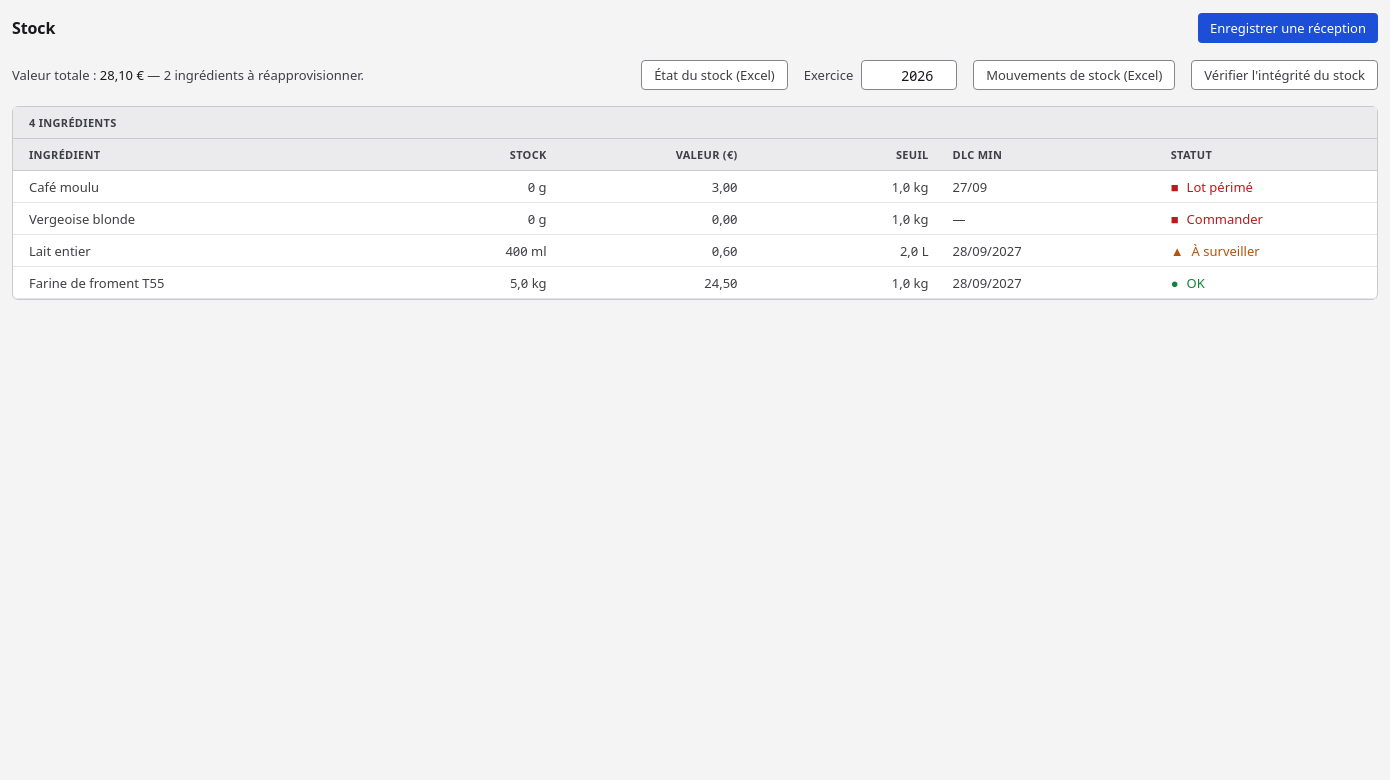
Test: Stock — détail par lot, clavier › Échap ferme le panneau de détail, couche par couche — jamais tout d’un coup
Click the row "Café moulu 0 g 3,00 1,0 kg 27/09 ■ Lot périmé" at [695, 187], box [13,171,1377,203]
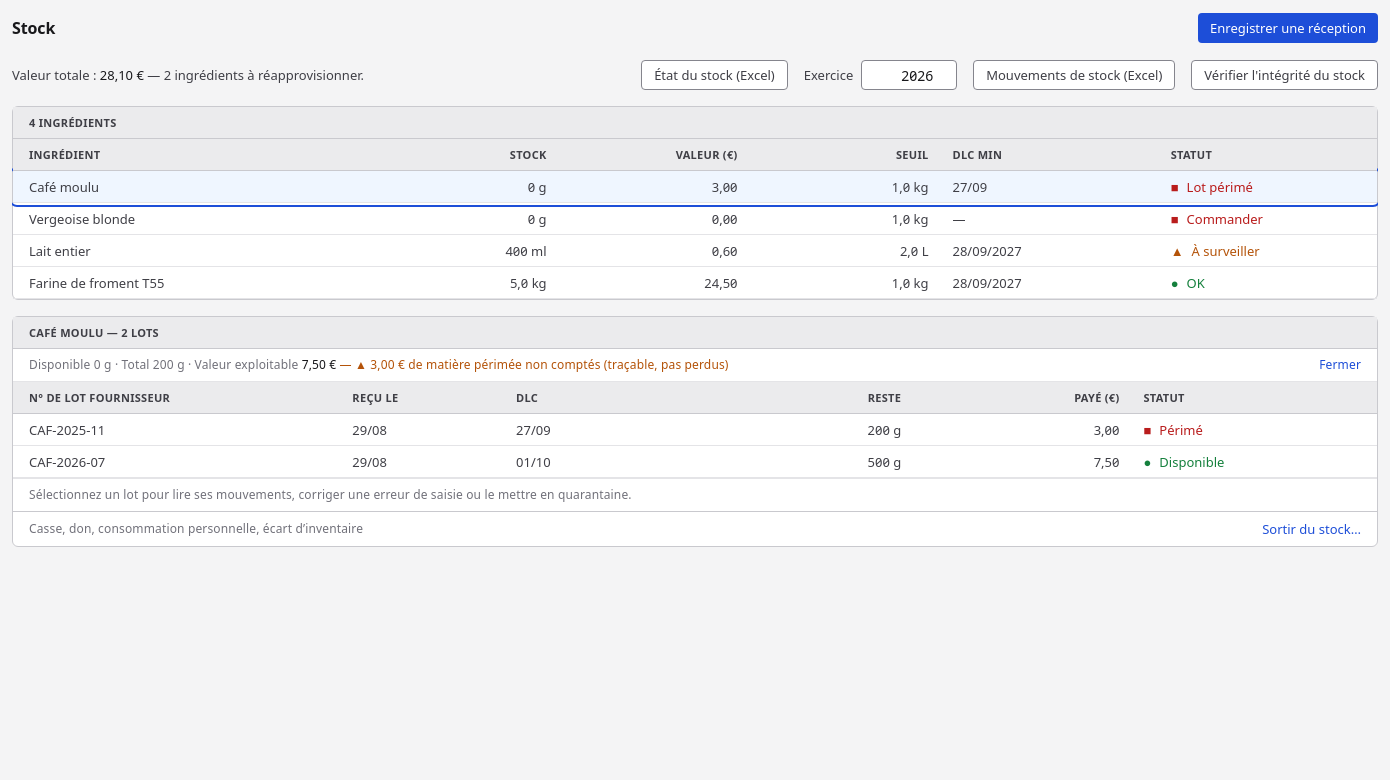
Check: the row "CAF-2025-11 29/08 27/09 200 g 3,00 ■ Périmé" is shown
Click the row "CAF-2025-11 29/08 27/09 200 g 3,00 ■ Périmé" at [695, 430], box [13,414,1377,446]
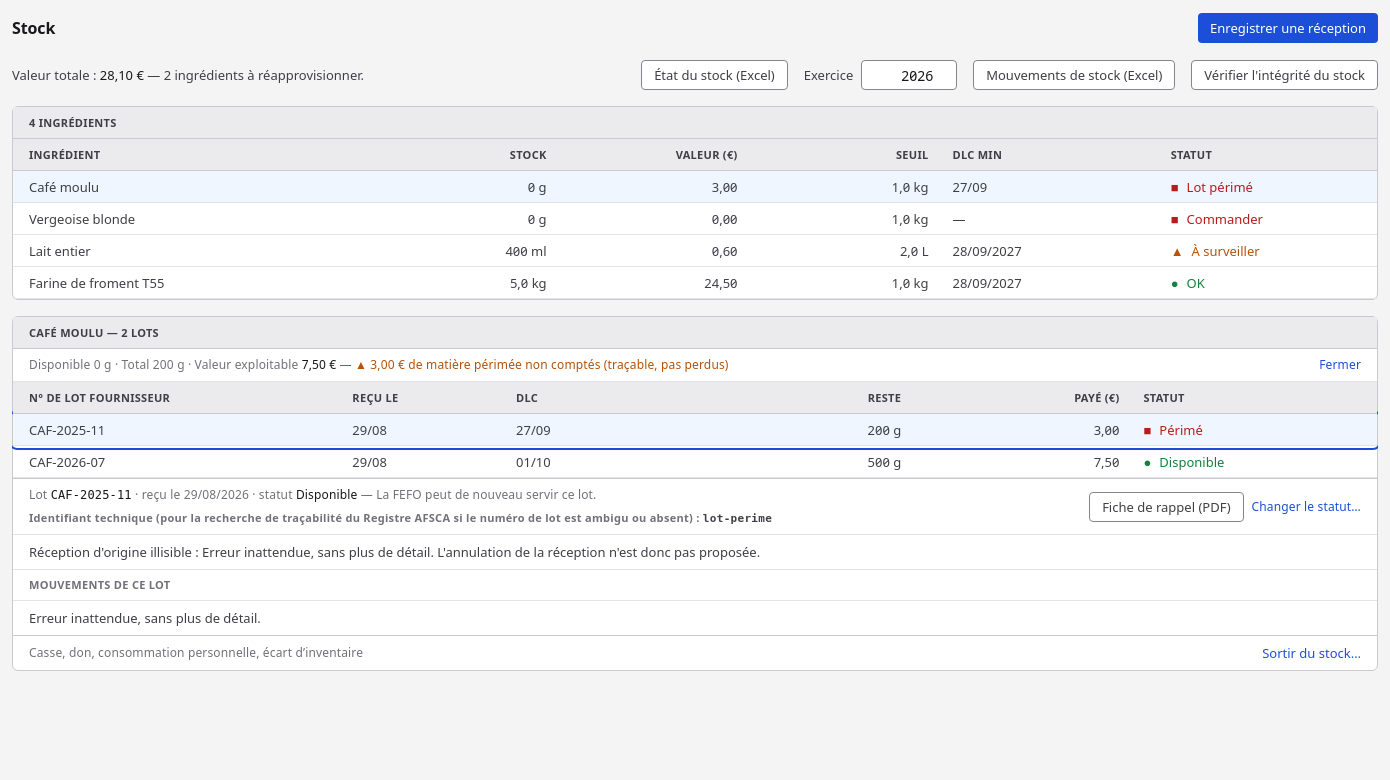
Press Escape
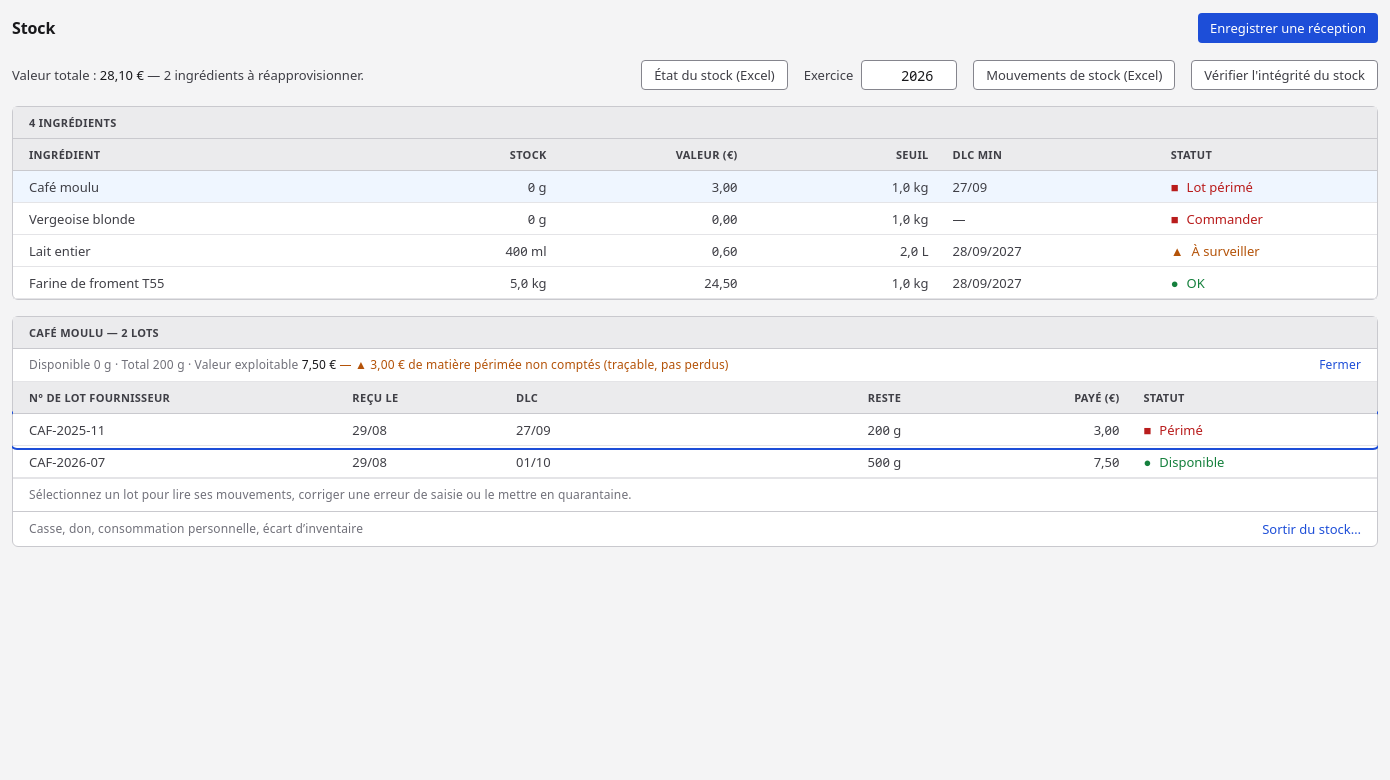
Check: the heading "Café moulu — 2 lots" is shown, box [13,317,1377,349]
// Couche 2 : le panneau de l'ingrédient.
Press Escape
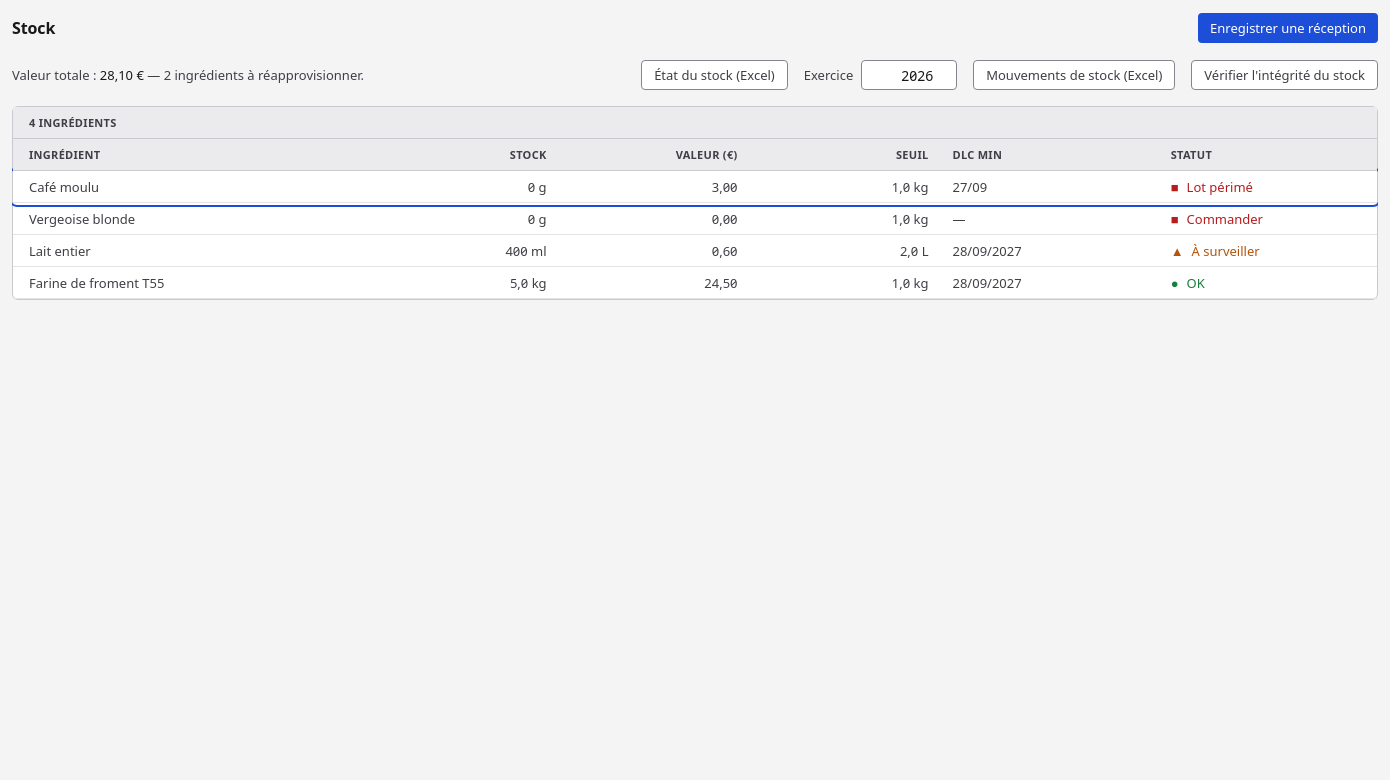
Check: the heading "Café moulu — 2 lots" is gone
